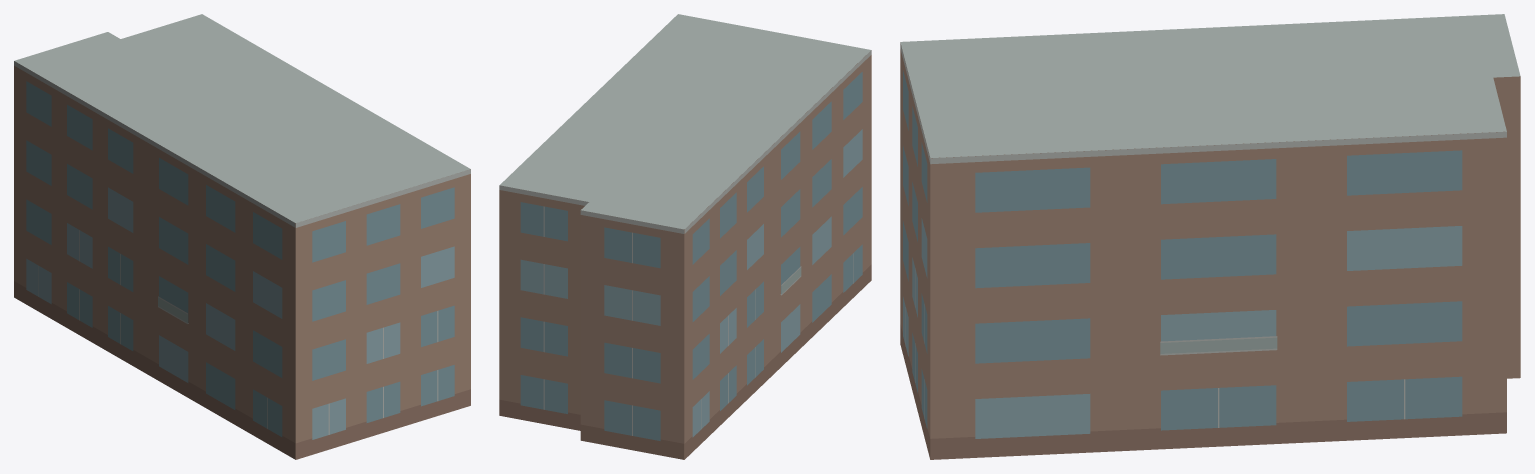
Rendered from residential-48e6c60c-ea8a-45e4-b159-e35100cfd7c8.glb.
3 views of the same model, side by side, from view 1: azimuth 30°, elevation 25°; view 2: azimuth 150°, elevation 25°; view 3: azimuth 270°, elevation 25° (orthographic). The views are drawn at different scales.
Visible parts, largest first — view 1: residential-48e6c60c-ea8a-45e4-b159-e35100cfd7c8.tmp; view 2: residential-48e6c60c-ea8a-45e4-b159-e35100cfd7c8.tmp; view 3: residential-48e6c60c-ea8a-45e4-b159-e35100cfd7c8.tmp.
Boxes of the visible parts, x1=… form: residential-48e6c60c-ea8a-45e4-b159-e35100cfd7c8.tmp: x1=14, y1=14, x2=470, y2=459; residential-48e6c60c-ea8a-45e4-b159-e35100cfd7c8.tmp: x1=499, y1=14, x2=871, y2=459; residential-48e6c60c-ea8a-45e4-b159-e35100cfd7c8.tmp: x1=900, y1=14, x2=1520, y2=459.
Size of the model in its own units: 12.51 by 12.2 by 22.74.
